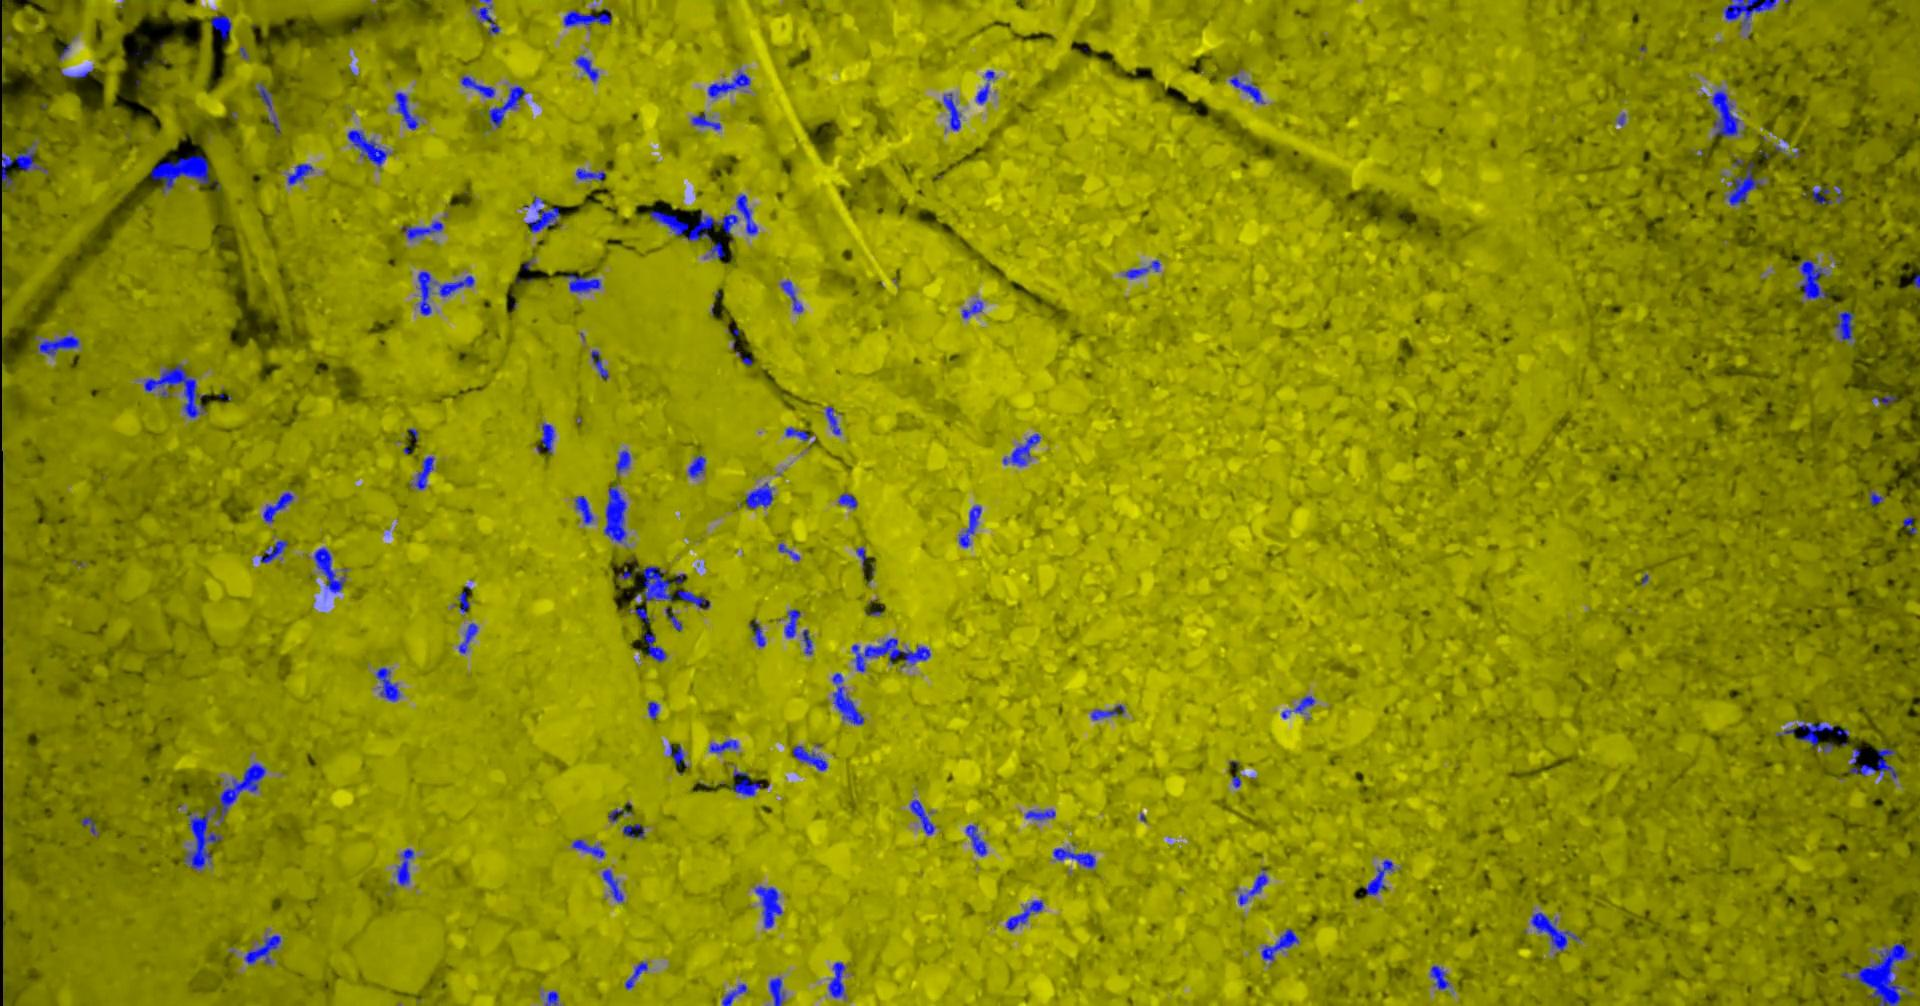ant: (649, 210, 738, 241), (851, 636, 930, 671), (0, 142, 47, 189), (1530, 912, 1580, 951), (832, 672, 863, 724), (1724, 161, 1763, 205), (1710, 89, 1743, 138), (345, 130, 387, 166), (1849, 747, 1897, 779), (634, 565, 673, 603), (488, 86, 524, 127), (312, 547, 345, 592), (1723, 0, 1775, 28), (603, 483, 626, 542), (1797, 720, 1848, 747), (1260, 929, 1298, 962), (524, 197, 559, 232), (1002, 433, 1040, 465), (707, 70, 750, 98), (257, 83, 279, 135), (1237, 866, 1267, 904), (1004, 899, 1043, 930), (1799, 259, 1829, 298), (754, 887, 782, 927), (244, 934, 279, 964), (1364, 859, 1393, 894), (957, 506, 982, 547), (1229, 74, 1263, 103), (262, 492, 293, 522), (394, 91, 418, 130), (472, 0, 499, 34), (417, 271, 437, 315), (375, 666, 400, 701), (909, 799, 935, 835), (735, 194, 757, 235), (1051, 847, 1095, 868), (563, 8, 611, 25), (729, 767, 759, 795), (792, 746, 827, 770), (401, 220, 443, 239), (38, 335, 79, 354), (780, 279, 803, 312), (1281, 695, 1314, 718), (601, 869, 623, 902), (745, 481, 773, 508), (460, 75, 494, 97), (1123, 259, 1159, 278), (563, 273, 599, 292), (438, 276, 472, 296), (643, 630, 665, 661), (623, 962, 648, 989), (1832, 310, 1854, 340), (395, 848, 413, 885), (965, 824, 985, 856), (827, 962, 844, 997), (975, 70, 994, 103), (414, 456, 433, 489), (676, 589, 709, 608), (575, 55, 598, 81), (943, 93, 960, 130), (1811, 185, 1843, 205), (571, 840, 604, 857), (458, 622, 477, 653), (260, 540, 287, 561), (574, 495, 593, 525), (287, 163, 312, 184), (1090, 704, 1124, 719), (210, 15, 231, 39), (721, 983, 745, 1005), (590, 351, 608, 379), (667, 743, 688, 766), (1429, 965, 1449, 989), (691, 113, 720, 130), (783, 608, 800, 636), (540, 422, 554, 453), (825, 406, 841, 434), (749, 619, 764, 647), (768, 977, 783, 1005), (709, 739, 738, 753), (687, 455, 705, 478), (665, 606, 682, 630), (777, 542, 799, 560), (575, 168, 604, 180), (961, 300, 982, 318), (615, 450, 630, 473), (80, 815, 98, 835), (783, 426, 808, 439), (622, 823, 644, 838), (1023, 809, 1055, 819), (627, 607, 648, 622), (607, 808, 631, 821), (458, 586, 470, 612), (855, 546, 867, 568), (1870, 394, 1897, 404), (838, 493, 856, 508), (540, 989, 557, 1005), (1902, 514, 1916, 533), (709, 241, 724, 258), (803, 627, 811, 654), (1868, 489, 1882, 506), (648, 701, 658, 719)
